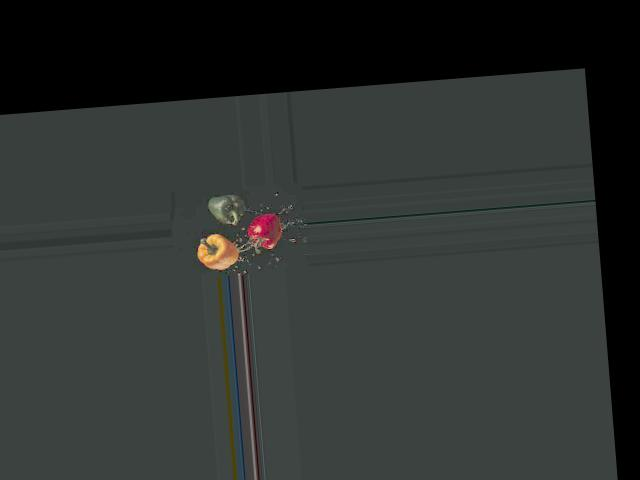bell_pepper: (239, 205, 285, 260)
